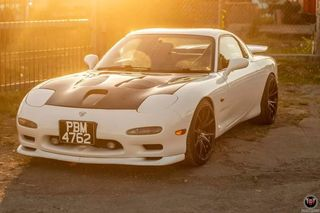License-Plate: (59, 119, 93, 142)
